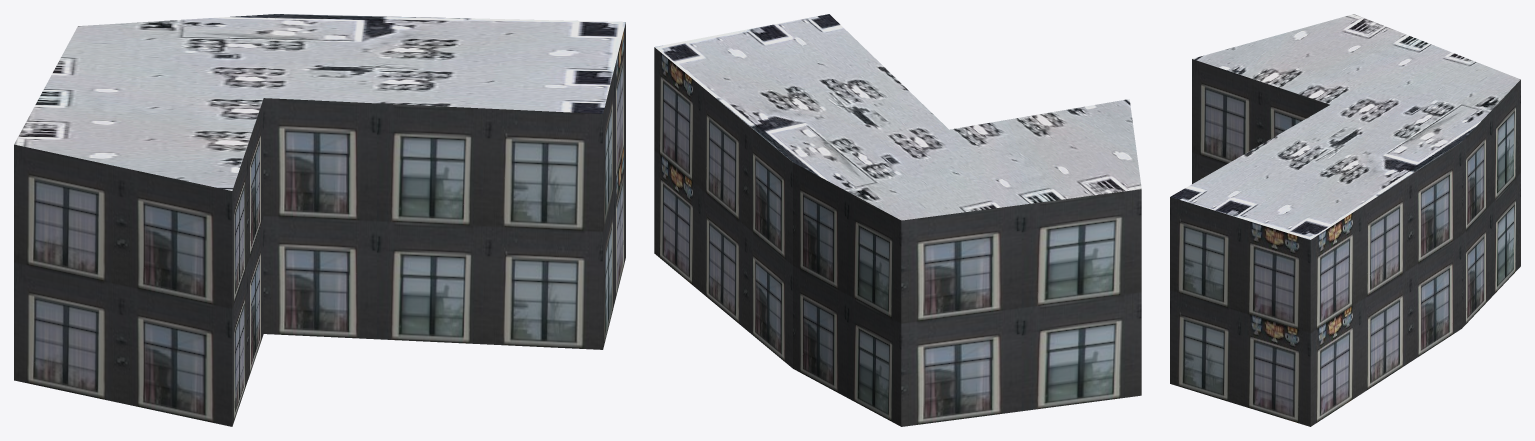
The model's file is ResTex__4887.fbx.
3 views of the same model, side by side, from view 1: azimuth 30°, elevation 25°; view 2: azimuth 150°, elevation 25°; view 3: azimuth 270°, elevation 25° (orthographic). The views are drawn at different scales.
Visible parts, largest first — view 1: CityEngineMaterial_22_m, CityEngineMaterial_8_m; view 2: CityEngineMaterial_22_m, CityEngineMaterial_8_m; view 3: CityEngineMaterial_22_m, CityEngineMaterial_8_m.
Boxes of the visible parts, x1=… form: CityEngineMaterial_22_m: x1=14, y1=23, x2=625, y2=426; CityEngineMaterial_8_m: x1=14, y1=14, x2=625, y2=190; CityEngineMaterial_22_m: x1=654, y1=47, x2=1141, y2=426; CityEngineMaterial_8_m: x1=654, y1=14, x2=1141, y2=220; CityEngineMaterial_22_m: x1=1170, y1=59, x2=1520, y2=426; CityEngineMaterial_8_m: x1=1170, y1=14, x2=1520, y2=239.
Bounding box in the file's own units: 15.56 × 6 × 10.21.
Materials: 2 (2 with a texture image).
